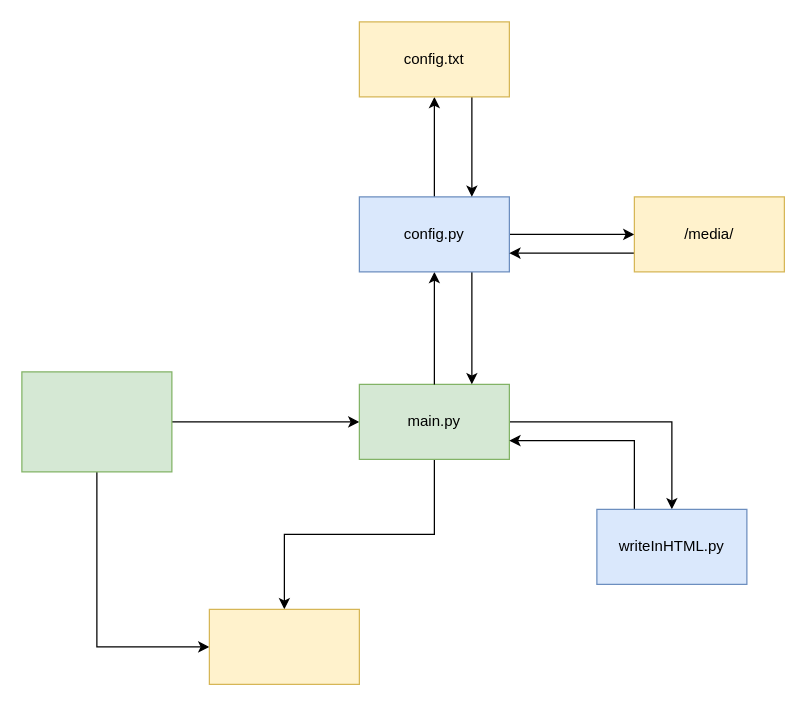
This 806x706 diagram has some shape labels left out. The shapes that lost their labels are listed below. From the top down, each one's box as (x1, y1, x2, y2) in pixels, then its label:
(21, 371, 172, 472): autostart.py
(208, 608, 359, 684): index.html
